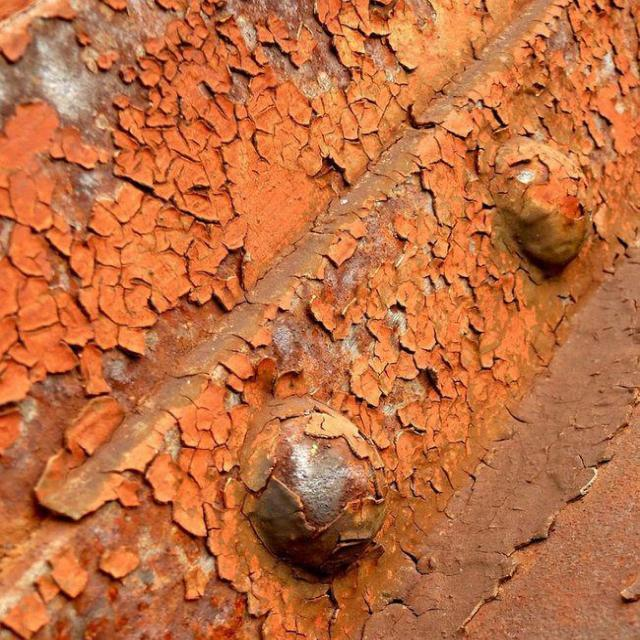Corrosion: (0, 0, 639, 639), (237, 393, 389, 581)
